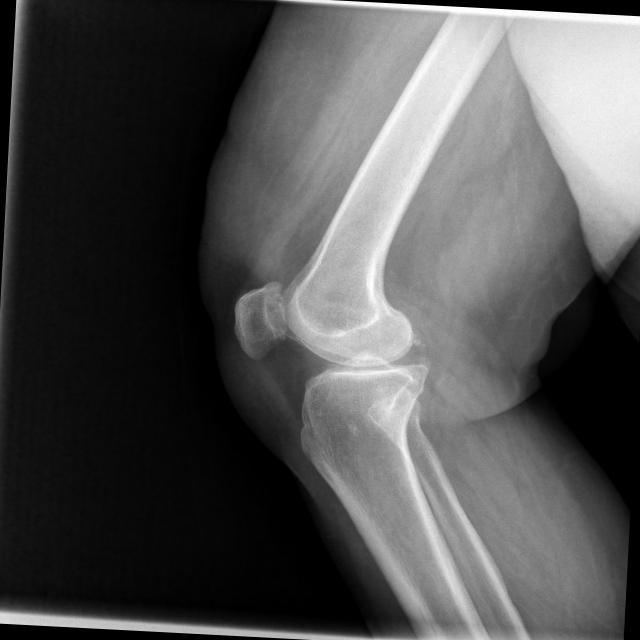Knee: (229, 274, 439, 430)
